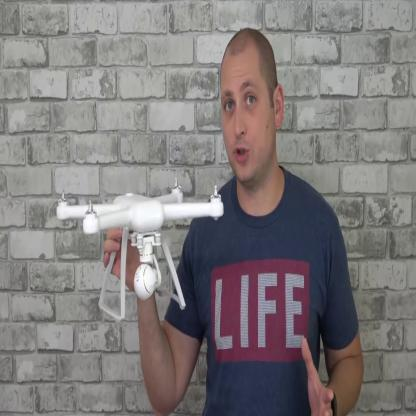drone: (52, 172, 227, 250)
